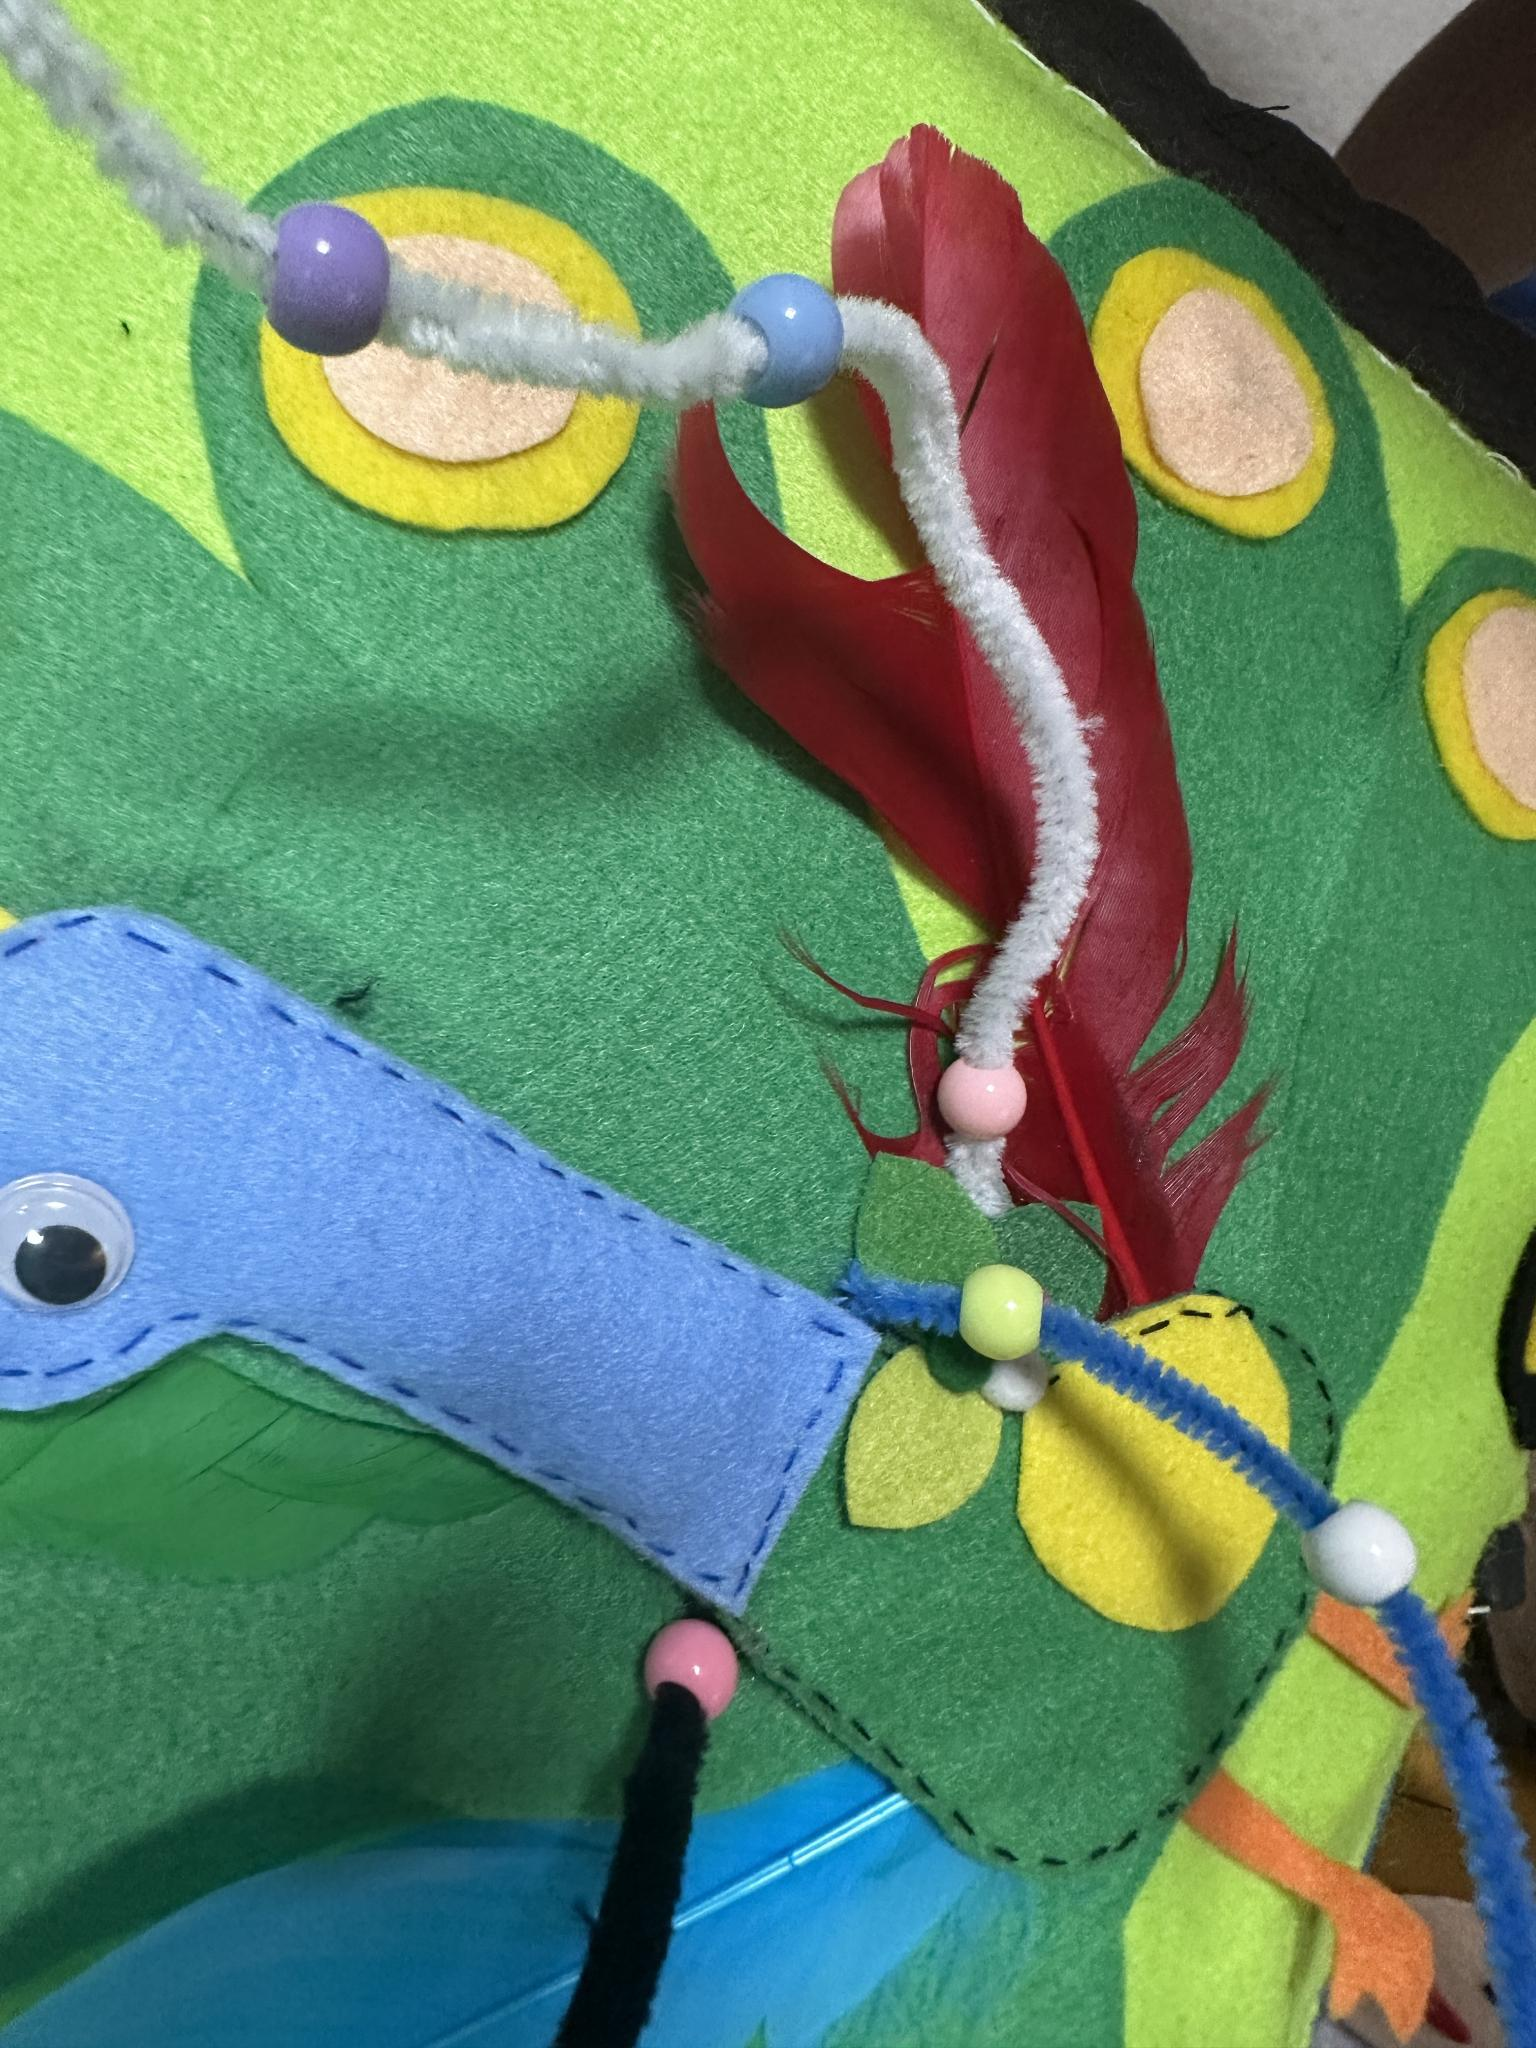bead: (215, 160, 442, 403), (697, 261, 868, 424), (1326, 1485, 1425, 1622), (945, 1251, 1063, 1364), (928, 1045, 1042, 1150), (650, 1611, 742, 1724)
